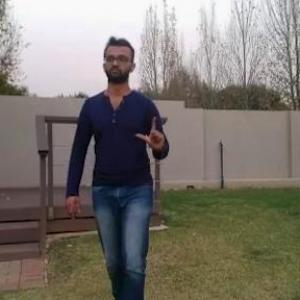land_hand: (133, 110, 168, 154)
